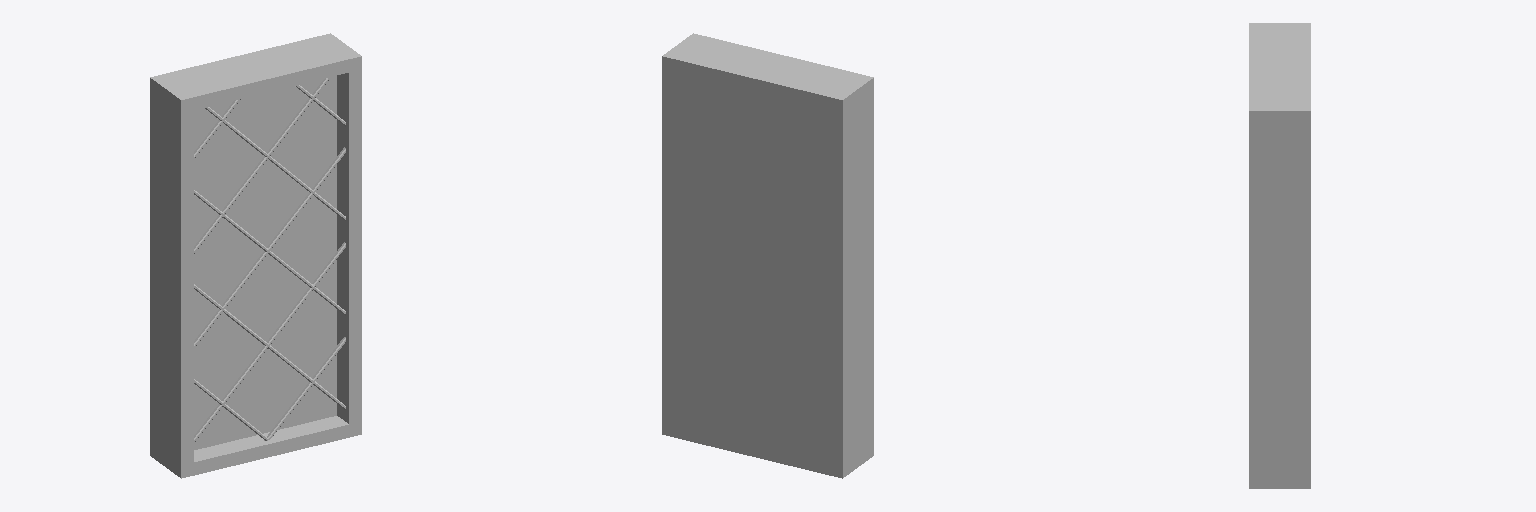
The model's file is window.obj.
3 views of the same model, side by side, from view 1: azimuth 30°, elevation 25°; view 2: azimuth 150°, elevation 25°; view 3: azimuth 270°, elevation 25° (orthographic).
Visible parts, largest first — view 1: Cube, Cube.005; view 2: Cube; view 3: Cube.
Boxes of the visible parts, box(x1,y1,x2,y2) form: Cube: box(150, 33, 361, 478); Cube.005: box(194, 77, 345, 442); Cube: box(662, 33, 873, 478); Cube: box(1249, 23, 1310, 488).
Bounding box in the file's own units: 2 × 4 × 0.6.